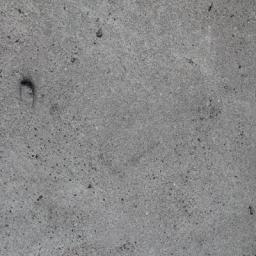FOD: (17, 77, 42, 111)
